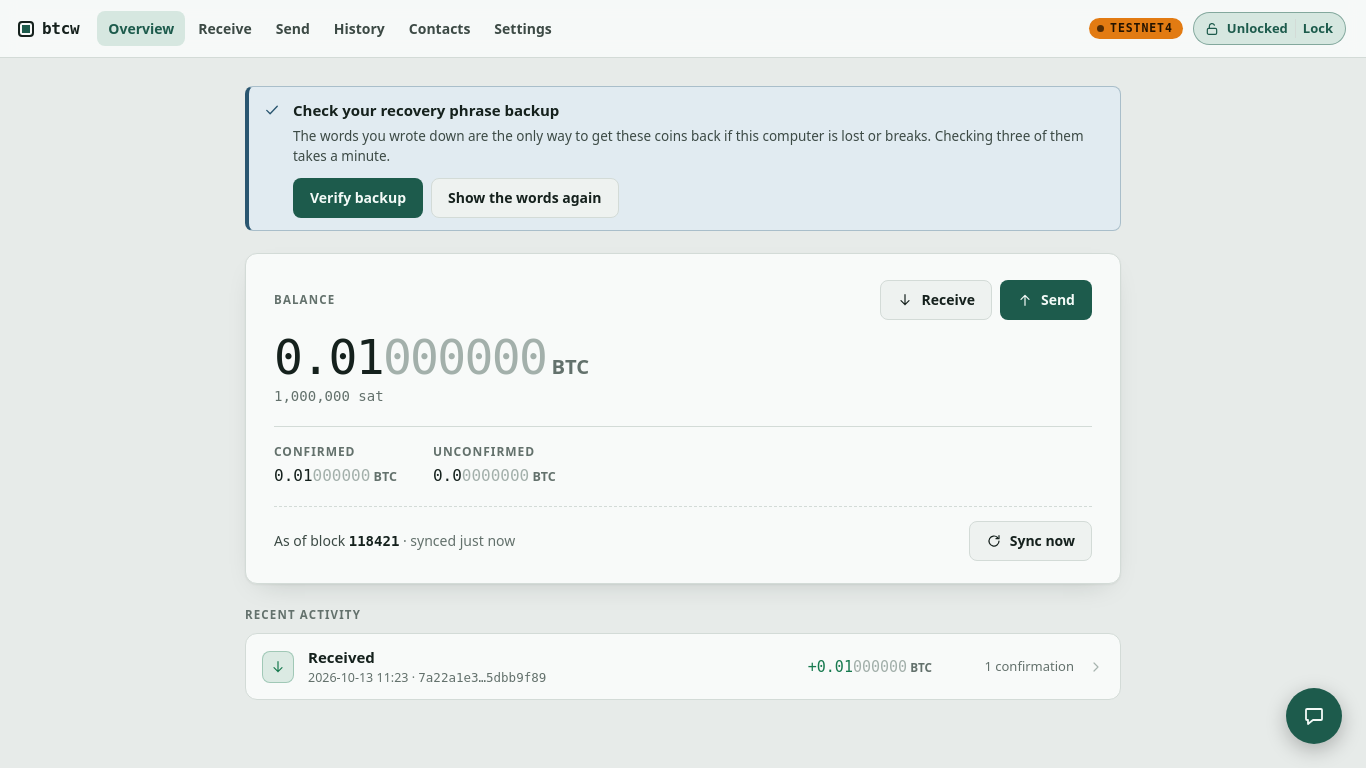
Test case: assistant screen › explains a free-tier rate limit
expect the heading "Balance" is shown: met, box [274,291,335,309]
expect the text "As of block 118421 · synced just now" is shown: met, box [274,530,515,552]
Click the button named "Open assistant" at coordinates (1314, 716), box [1286,688,1342,744]
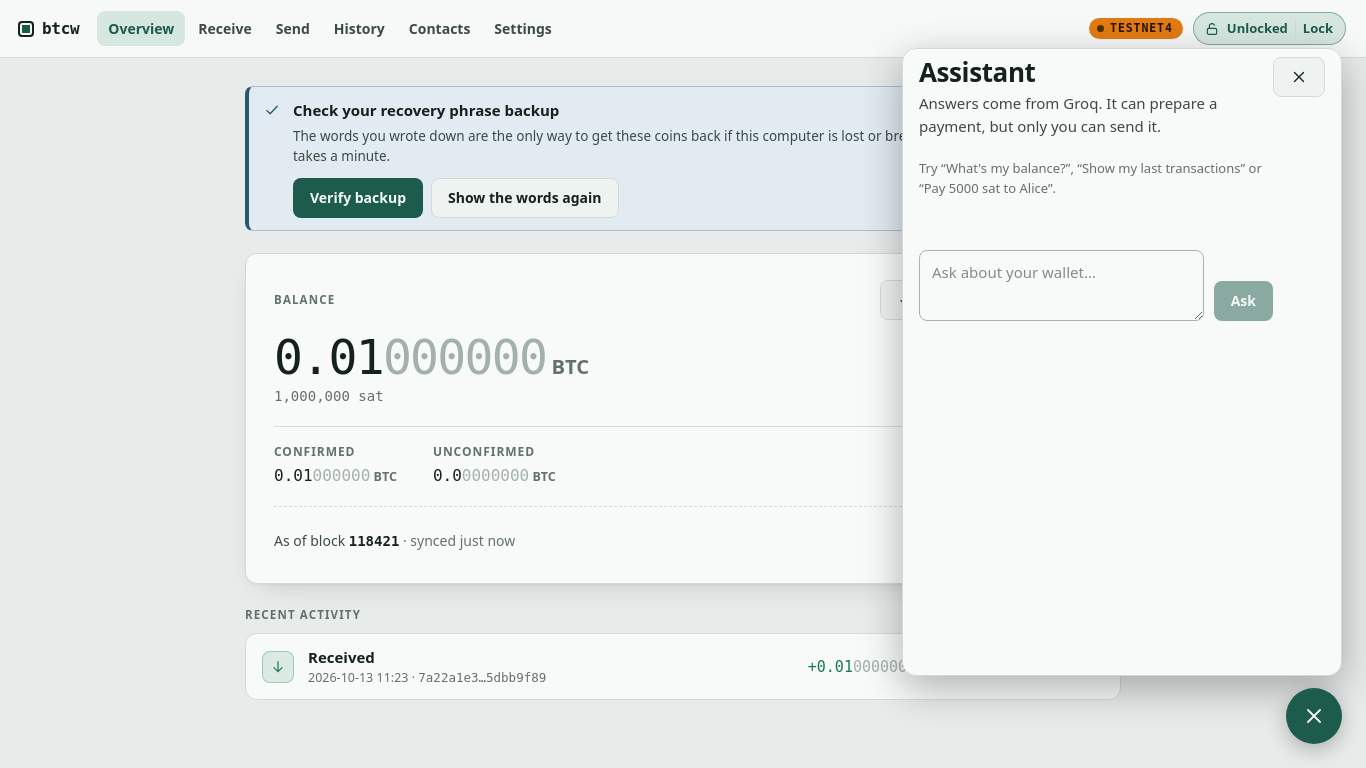
expect the heading "Assistant" is shown: met, box [919,54,1036,90]
Type "balance" into the text box named "Message" at coordinates (1061, 286), box [919,250,1204,321]
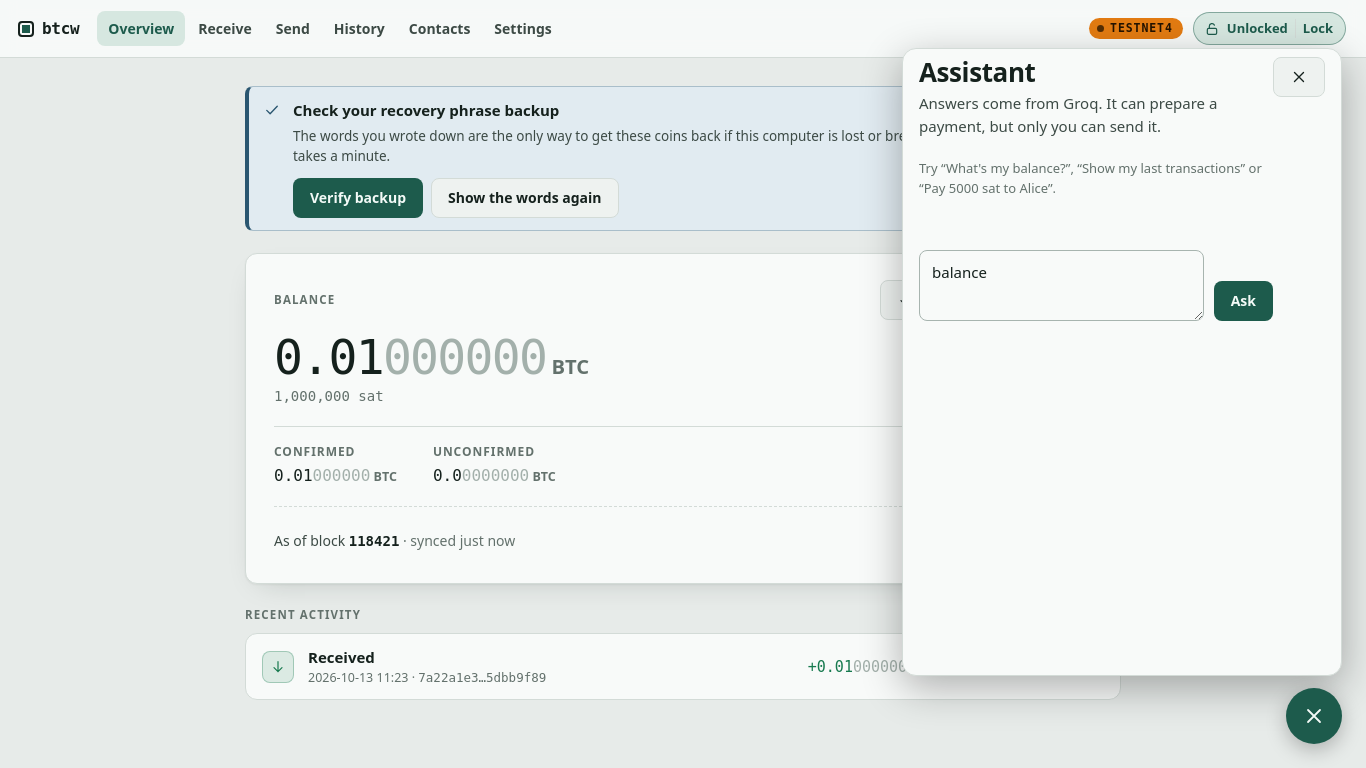
Click the button "Ask" at coordinates (1243, 301), box [1214,281,1273,321]
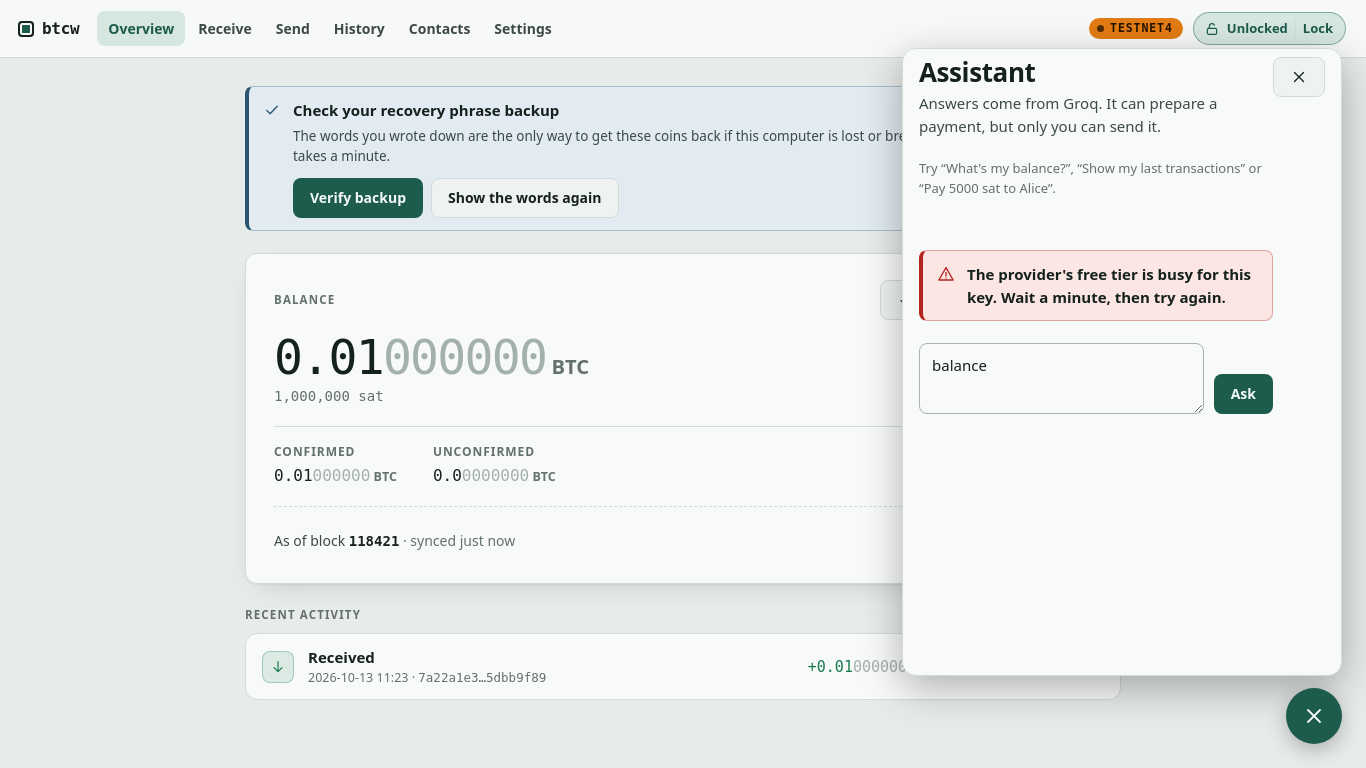
expect the message shows "free tier is busy": met, box [967,264,1251,307]
